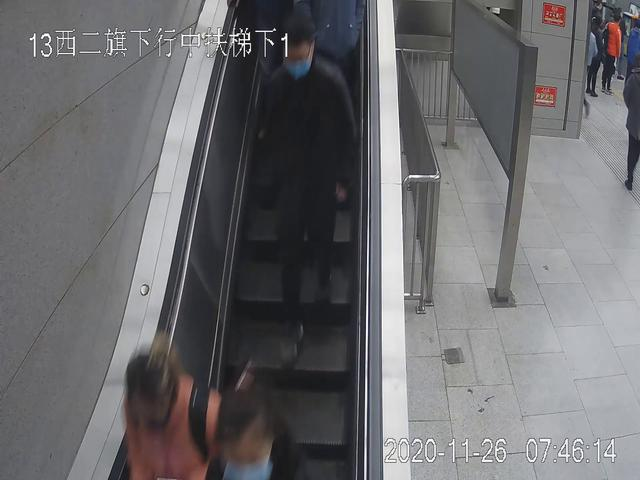person: (260, 25, 357, 367), (600, 15, 627, 96)
